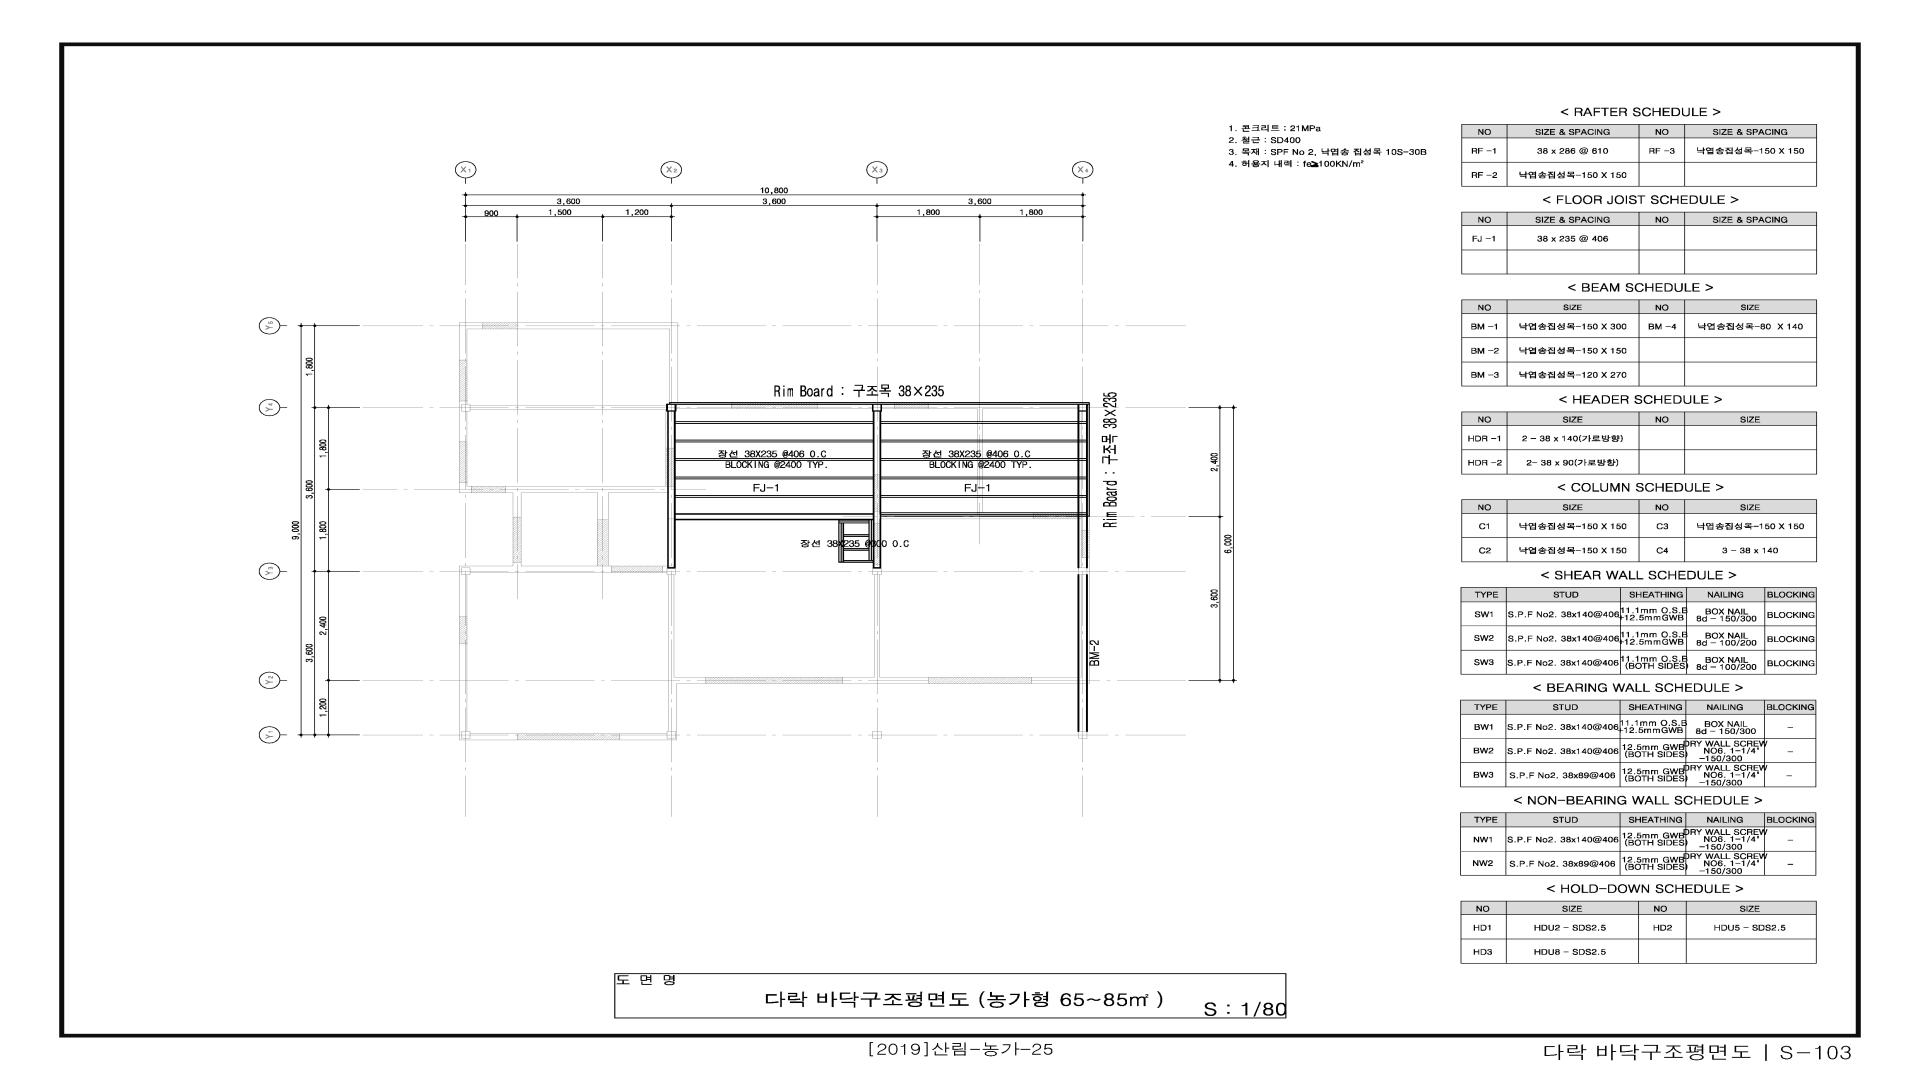wall: (1077, 404, 1088, 568), (1077, 575, 1088, 732), (675, 513, 873, 521), (873, 411, 881, 568), (667, 411, 675, 568), (669, 402, 1091, 405), (881, 512, 1077, 517), (675, 495, 873, 498), (675, 439, 873, 443), (675, 421, 873, 425), (881, 439, 1077, 443), (881, 458, 1077, 462), (881, 495, 1079, 497), (676, 476, 873, 479), (675, 458, 872, 460), (882, 421, 1079, 423), (881, 476, 1077, 479), (839, 524, 844, 563), (869, 521, 872, 560), (844, 547, 869, 551), (872, 404, 882, 411), (666, 404, 676, 411), (839, 521, 869, 524), (844, 560, 873, 563), (844, 534, 869, 537)
